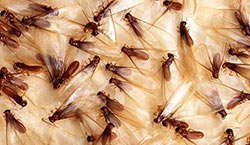flying termite: (121, 10, 173, 52), (47, 83, 98, 125), (151, 79, 195, 126), (37, 39, 70, 90)
